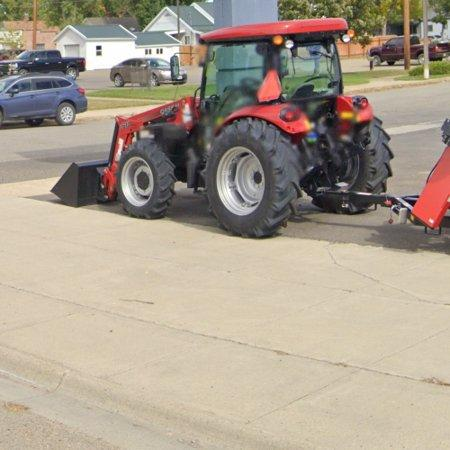tractors: (53, 18, 392, 238)
